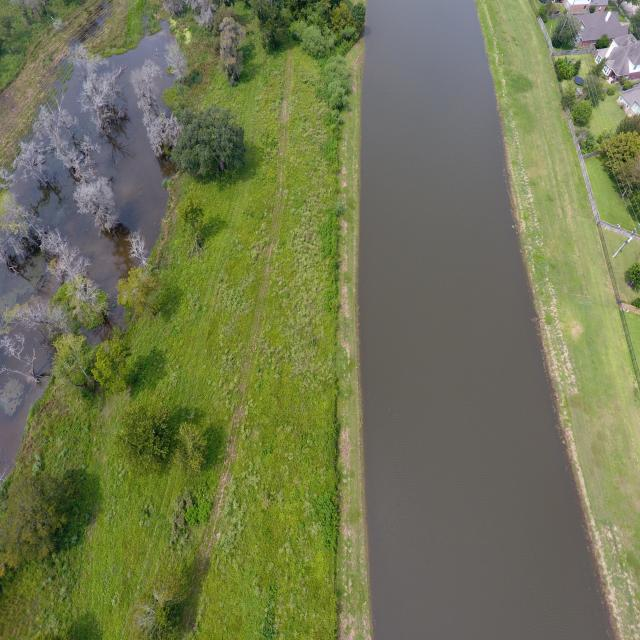fire: (359, 0, 609, 639), (9, 26, 173, 300), (0, 325, 51, 479), (0, 252, 60, 327)
